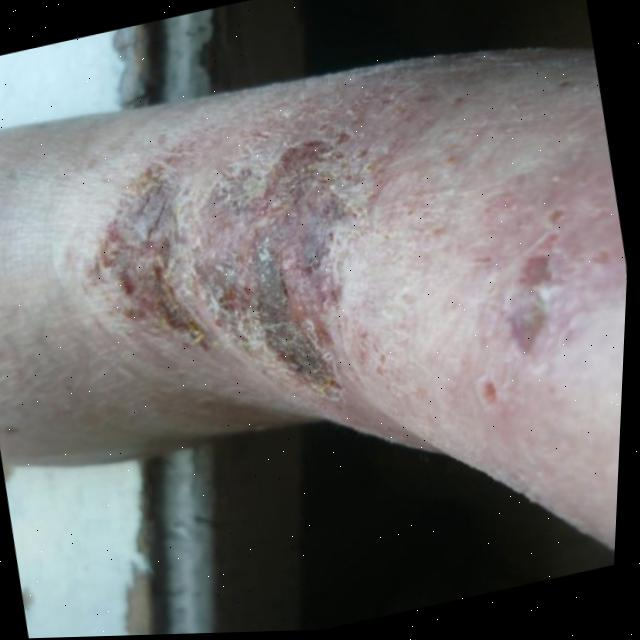Eczema: (90, 64, 511, 417)
